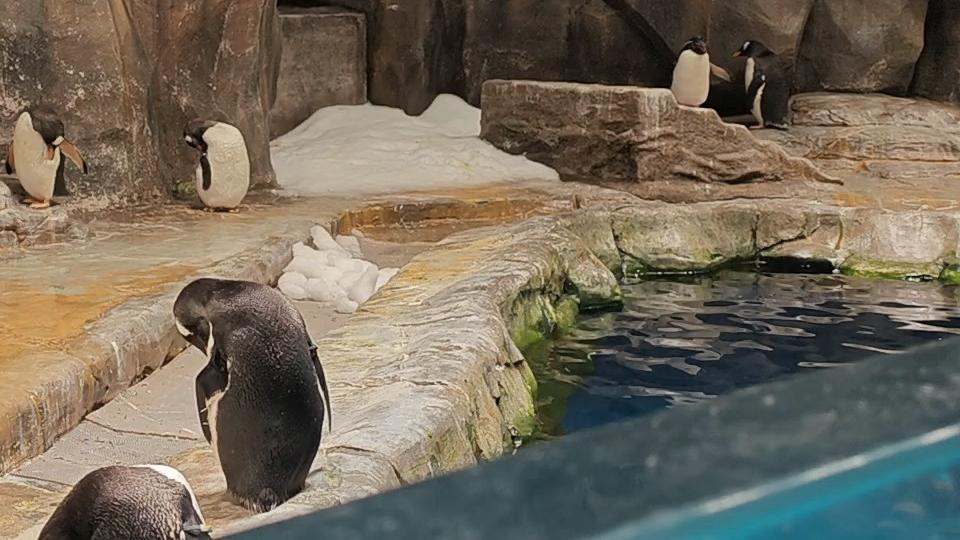Southern Rockhopper Penguin: (660, 30, 731, 110)
